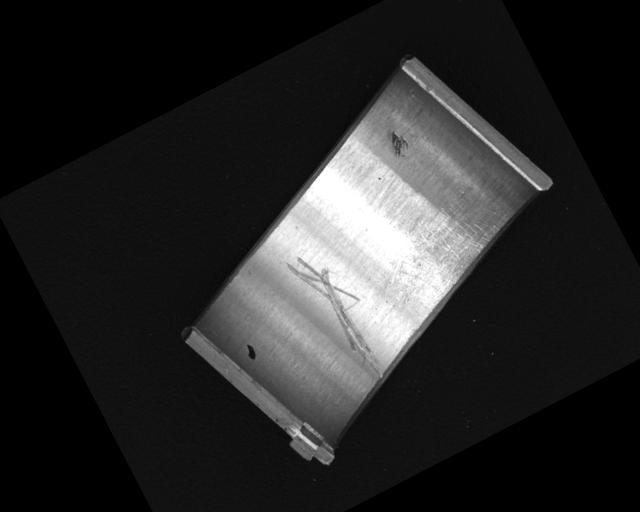blot: (241, 340, 258, 361)
bruise: (383, 125, 413, 159)
nick: (283, 239, 396, 395)
scratch: (367, 182, 519, 319)
